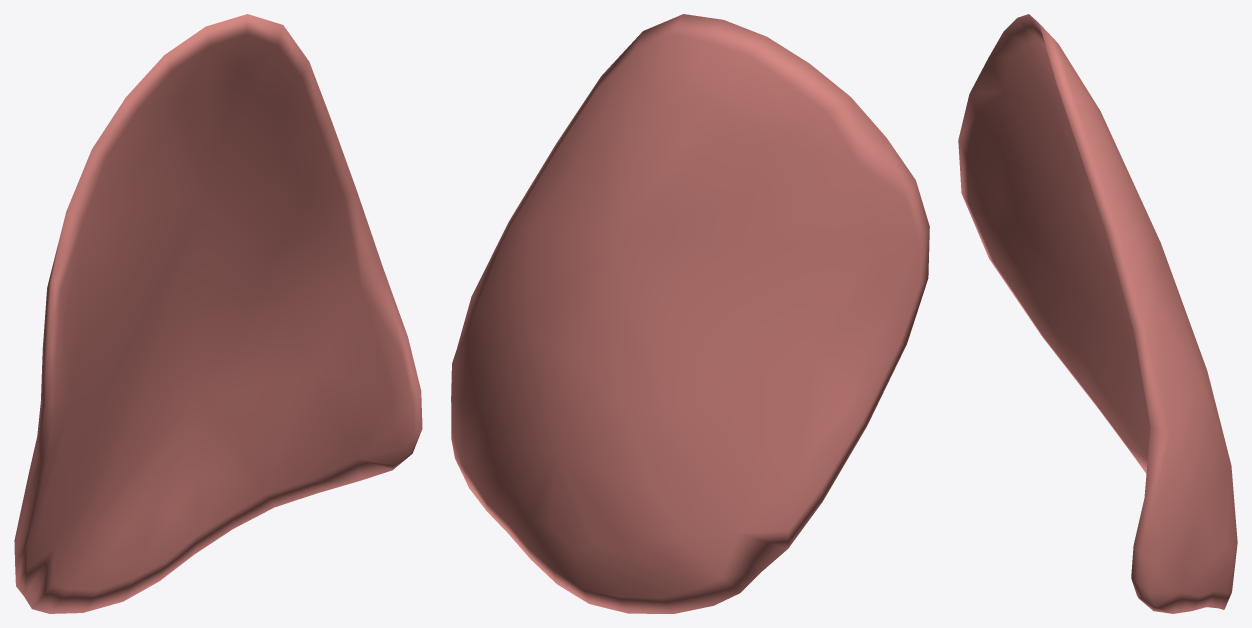
The picture shows the model from 3 angles, left to right: view 1: azimuth 30°, elevation 25°; view 2: azimuth 150°, elevation 25°; view 3: azimuth 270°, elevation 25°; orthographic projection. The views are drawn at different scales.
Parts seen in each view (by area): view 1: ZA_db92d7f214995ad8; view 2: ZA_db92d7f214995ad8; view 3: ZA_db92d7f214995ad8.
Boxes of the visible parts, box(x1,y1,x2,y2) form: ZA_db92d7f214995ad8: box(14, 14, 422, 613); ZA_db92d7f214995ad8: box(451, 14, 929, 613); ZA_db92d7f214995ad8: box(958, 14, 1237, 613).
Bounding box in the file's own units: 0.0129 × 0.0169 × 0.00756.
